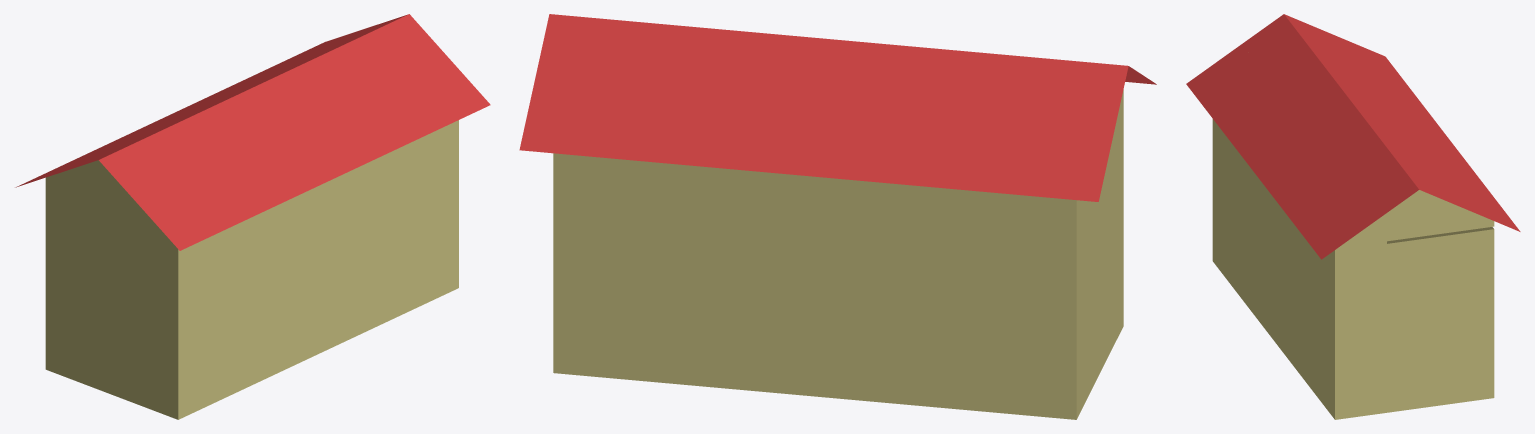
The picture shows the model from 3 angles, left to right: view 1: azimuth 30°, elevation 25°; view 2: azimuth 150°, elevation 25°; view 3: azimuth 270°, elevation 25°; orthographic projection. The views are drawn at different scales.
Bounding box in the file's own units: 17.06 × 11.88 × 8.93.
